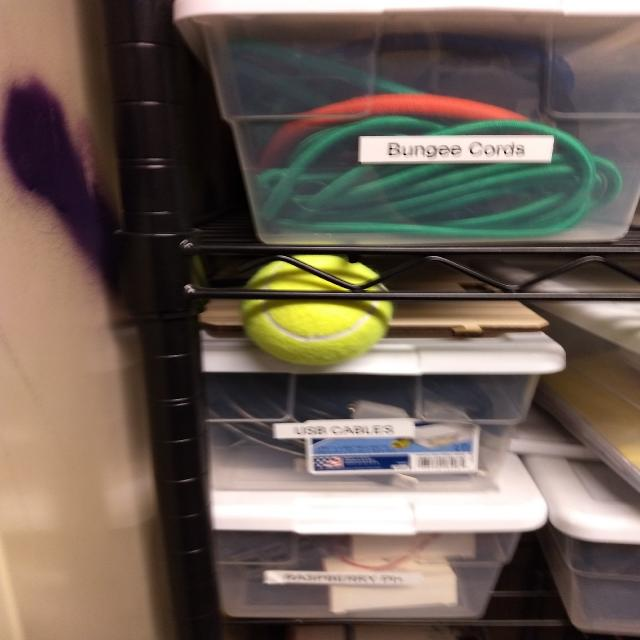Tennis-Ball: (242, 254, 392, 367)
